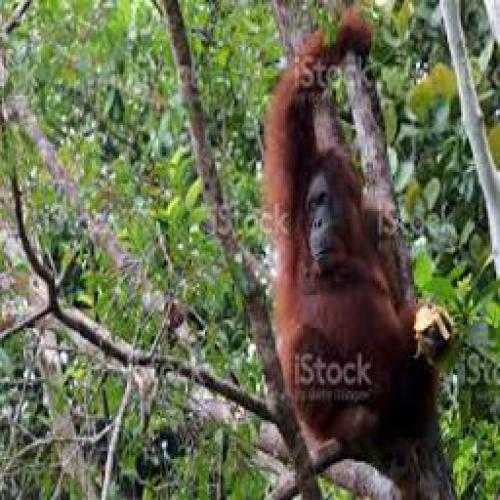orangutan-endangered: (261, 5, 449, 500)
